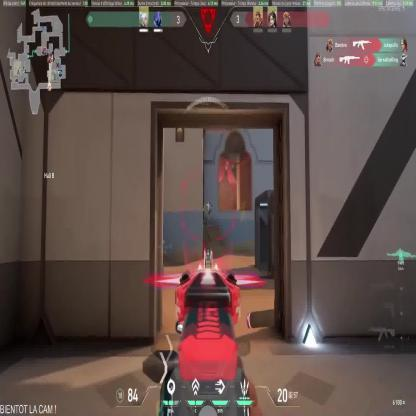enemy: (240, 200, 247, 221)
enemy_head: (242, 202, 246, 207)
